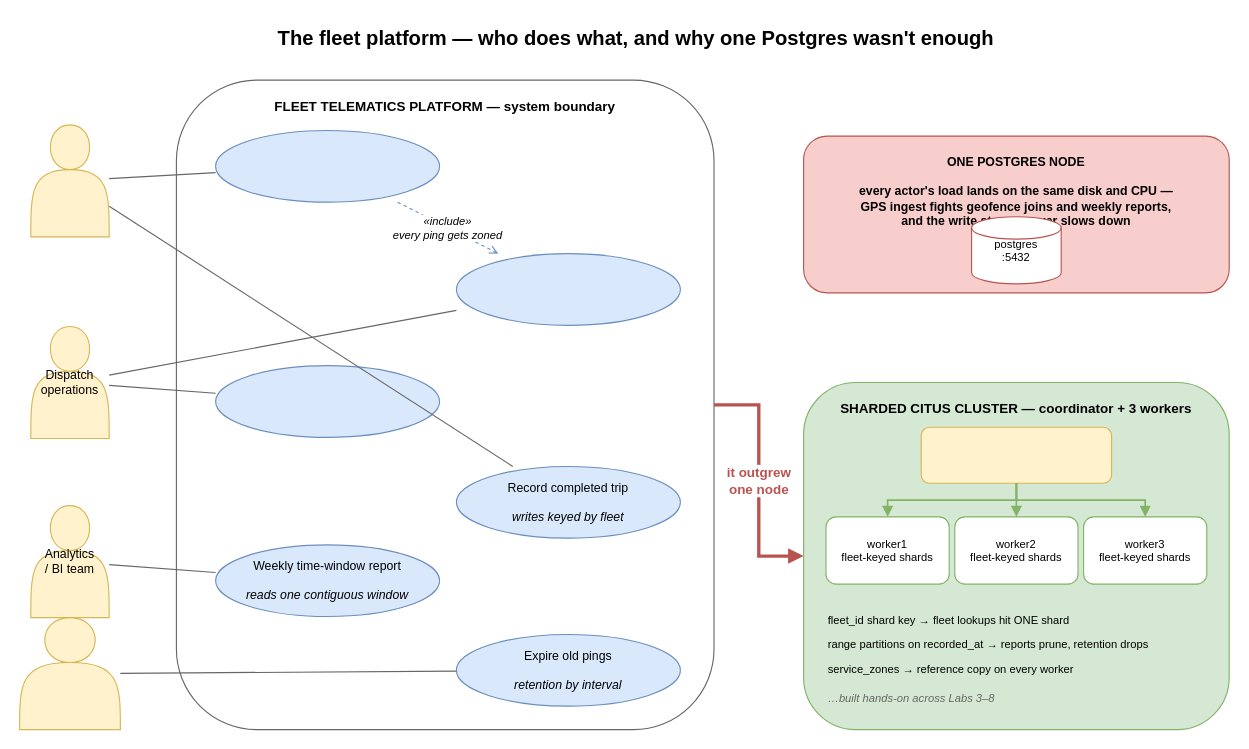
The diagram is 1249 pixels wide and 749 high, and some of its shapes have lost their labels. The centre of each missing label's shape, as x and y in pixels:
"COORDINATOR routes queries · merges results" belongs at [1016,454].
"Match ping to geofence pings ⋈ 5 zone polygons" belongs at [567,289].
"Platform ops (retention cron)" belongs at [69,673].
"Show a fleet's vehicles & trips hot path — WHERE fleet_id = ?" belongs at [327,401].
"Stream GPS pings append-only — every ping is 'now'" belongs at [327,165].
"Vehicles (40,000)" belongs at [69,180].
